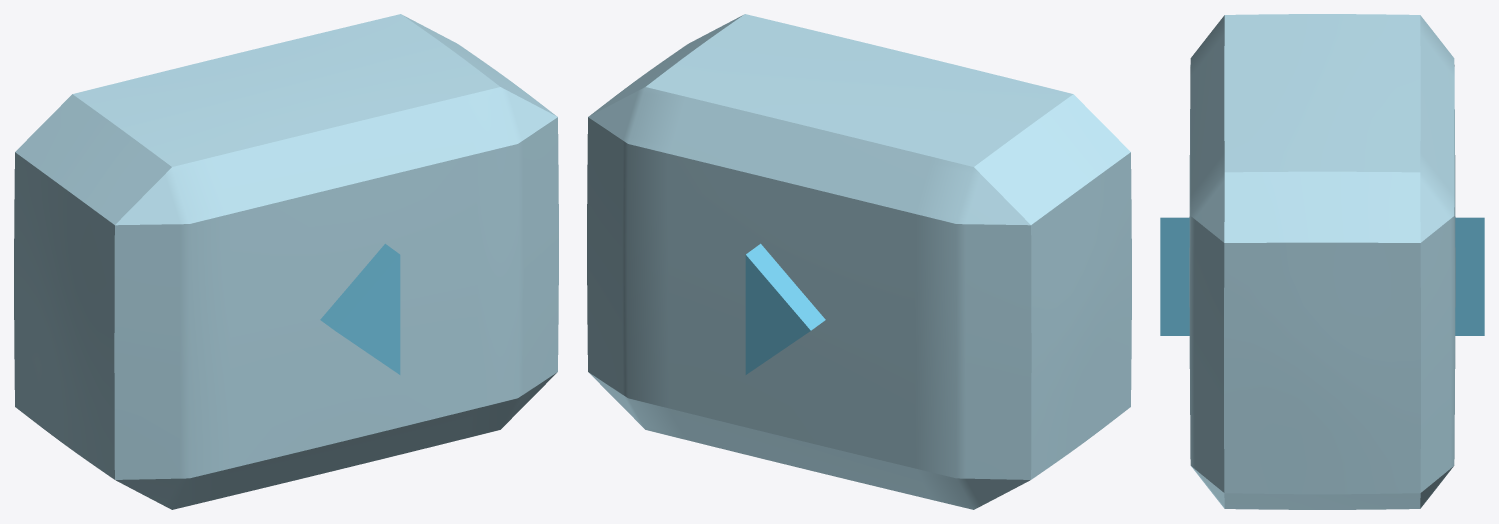
File: play_button_animation_frame2.fbx
3 views of the same model, side by side, from view 1: azimuth 30°, elevation 25°; view 2: azimuth 150°, elevation 25°; view 3: azimuth 270°, elevation 25° (orthographic).
Visible parts, largest first — view 1: Button, Triangle; view 2: Button, Triangle; view 3: Button, Triangle.
Boxes of the visible parts, x1,y1,x2,y2 form: Button: (14, 14, 558, 509); Triangle: (320, 243, 400, 374); Button: (587, 14, 1131, 509); Triangle: (745, 243, 825, 374); Button: (1189, 14, 1455, 509); Triangle: (1160, 217, 1484, 335).
Size of the model in its own units: 383 by 283 by 245.
